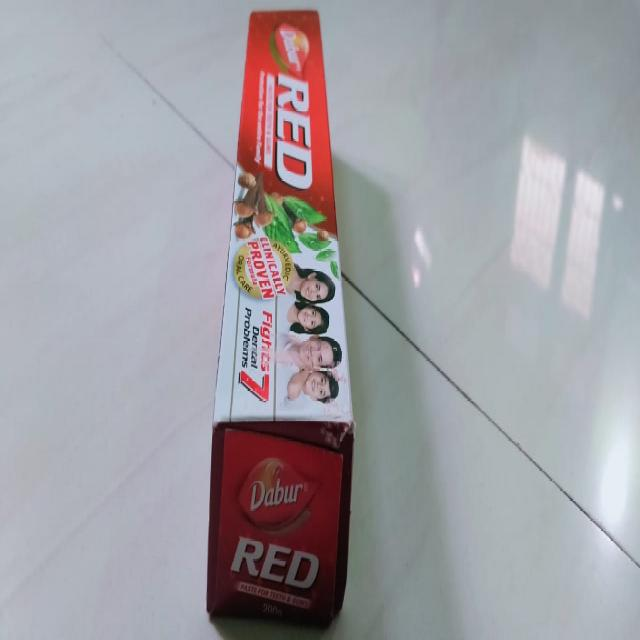tooth paste: (207, 2, 352, 639)
